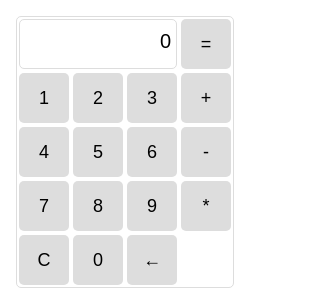
Test: Calculator › adds 11 + 23
Click the button with test id "1" at (44, 98), box [19,73,69,123]
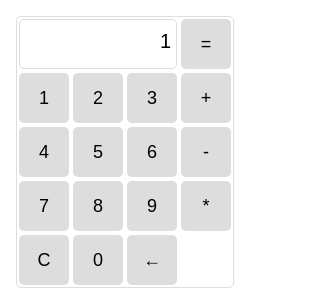
Click the button with test id "1" at (44, 98), box [19,73,69,123]
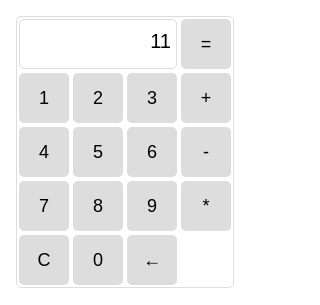
Click the button with test id "+" at (206, 98), box [181,73,231,123]
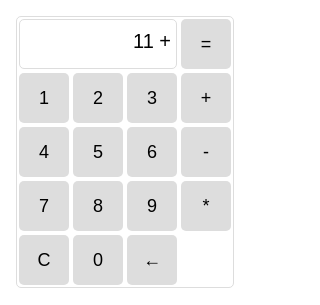
Click the button with test id "2" at (98, 98), box [73,73,123,123]
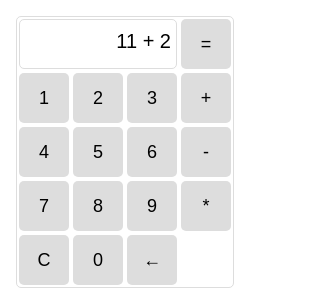
Click the button with test id "3" at (152, 98), box [127,73,177,123]
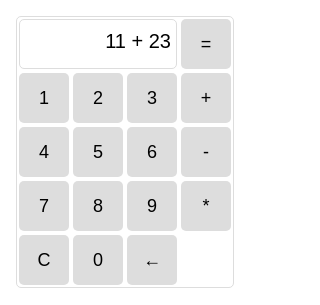
Click the button with test id "calculate" at (206, 44), box [181,19,231,69]
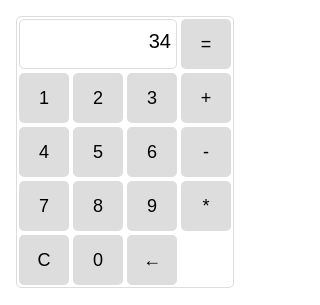
Expected: the text "34" is shown, [19,19,177,69]
